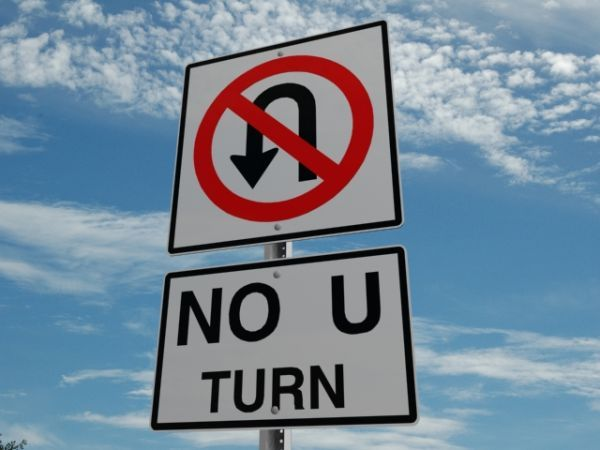No_u_turn: (195, 53, 373, 223)
